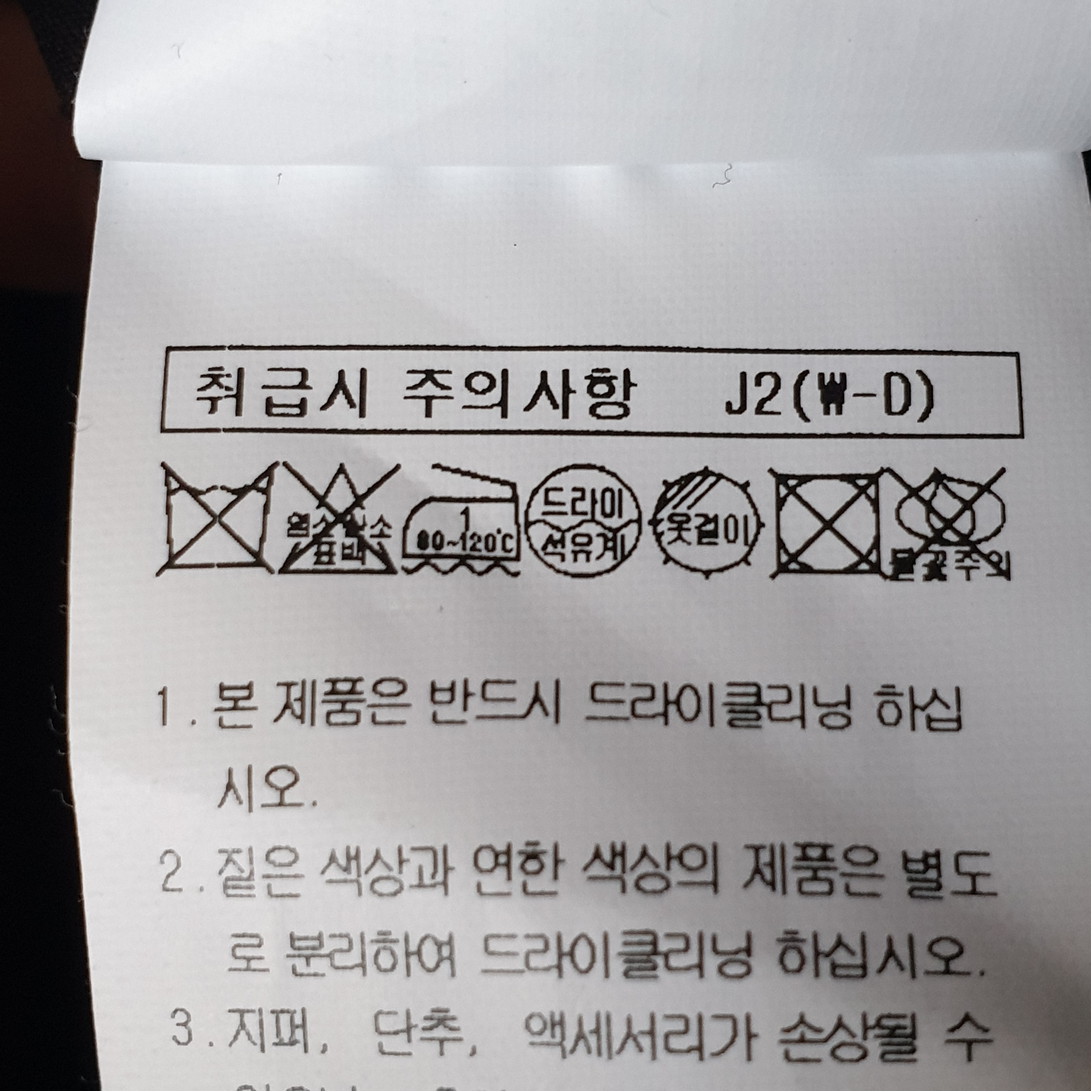KR_dry_clean_petroleum: (523, 459, 643, 583)
KR_hang_dry_in_shade: (649, 458, 766, 580)
KR_iron_low_temp_with_cloth: (398, 451, 524, 579)
KR_no_bleach: (277, 460, 395, 580)
KR_no_tumble_dry: (771, 462, 888, 580)
KR_no_wash: (147, 454, 274, 571)
